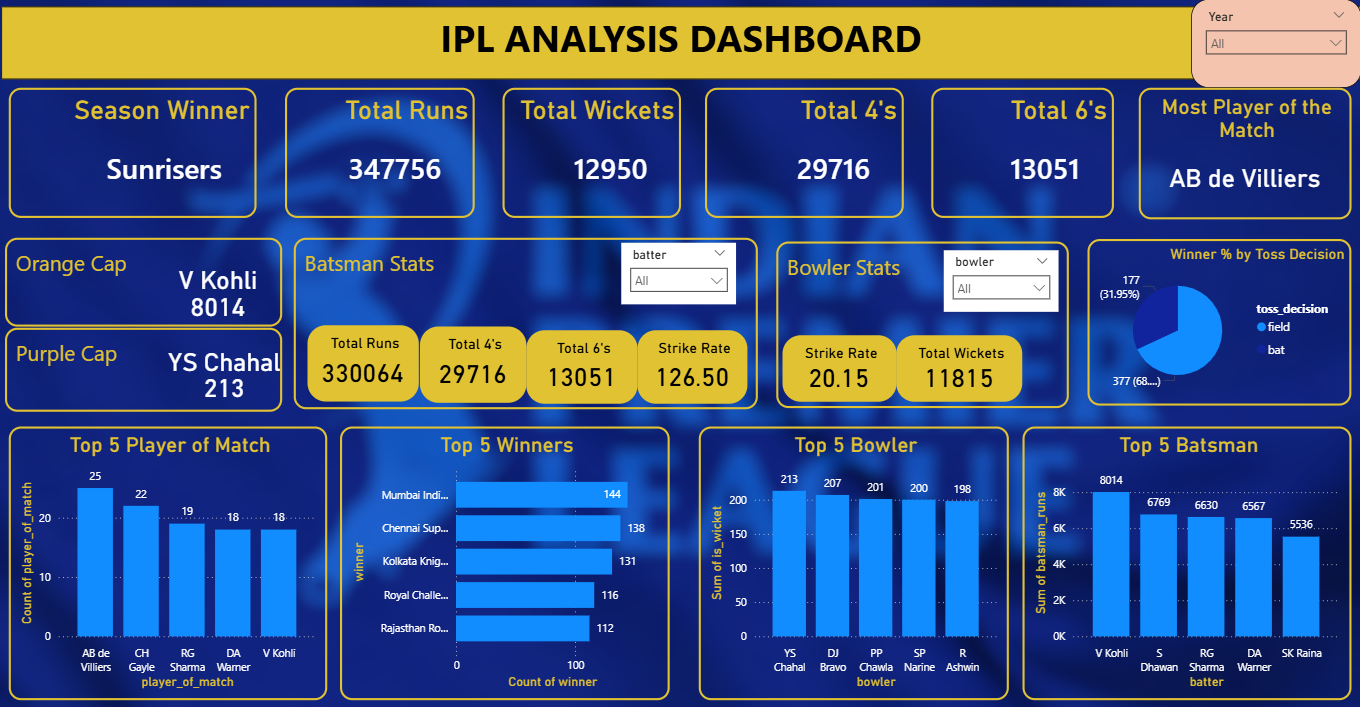

The dashboard page shown, as its layout file describes it:
{"tool":"powerbi","page":{"name":"Page 2","canvas":[1555,810],"ordinal":1},"visuals":[{"type":"textbox","box":[336,273.1,530,195.7],"z":0},{"type":"textbox","box":[1.4,8.6,1554.3,82.9],"z":1000},{"type":"slicer","fields":{"Values":["matches.season"]},"box":[1361.4,0,194.3,101.4],"z":2000},{"type":"cardVisual","title":"Season Winner","fields":{"Data":["matches.Winner of Final"]},"box":[10,101.4,282.9,148.6],"z":3000},{"type":"cardVisual","title":"Total Runs","fields":{"Data":["Sum(deliveries.total_runs)"]},"box":[325.7,101.4,217.1,148.6],"z":4000},{"type":"cardVisual","title":"Total Wickets","fields":{"Data":["Sum(deliveries.is_wicket)"]},"box":[574.3,101.4,204.3,148.6],"z":5000},{"type":"cardVisual","title":"Total 4''s","fields":{"Data":["deliveries.Total 4's"]},"box":[805.7,101.4,227.1,148.6],"z":6000},{"type":"cardVisual","title":"Total 6''s","fields":{"Data":["deliveries.Total 6's"]},"box":[1064.3,101.4,208.6,148.6],"z":7000},{"type":"card","title":"Most Player of the Match","fields":{"Values":["Min(matches.player_of_match)"]},"box":[1301.4,101.4,242.9,150],"z":8000},{"type":"textbox","box":[5.4,272.6,317.1,101.4],"z":9000},{"type":"pieChart","title":"Winner % by Toss Decision","fields":{"Category":["matches.toss_decision"],"Y":["CountNonNull(matches.winner %)"]},"box":[1242.9,274.3,301.4,190],"z":10000},{"type":"columnChart","title":"Top 5 Batsman","fields":{"Category":["deliveries.batter"],"Y":["Sum(deliveries.batsman_runs)"]},"box":[1168.6,489.1,375.7,312.9],"z":11000},{"type":"columnChart","title":"Top 5 Bowler","fields":{"Category":["deliveries.bowler"],"Y":["Sum(deliveries.is_wicket)"]},"box":[798.6,489.1,354.3,312.9],"z":12000},{"type":"card","fields":{"Values":["Min(deliveries.batter)"]},"box":[157.4,284.9,184.3,71.4],"z":13000},{"type":"card","fields":{"Values":["Sum(deliveries.batsman_runs)"]},"box":[157.4,320.6,184.3,60],"z":14000},{"type":"textbox","box":[5.4,375.4,317.1,95.7],"z":15000},{"type":"card","fields":{"Values":["Min(deliveries.bowler)"]},"box":[164,377.1,184.3,71.4],"z":16000},{"type":"slicer","fields":{"Values":["deliveries.batter"]},"box":[709.7,278.9,131.4,70],"z":17000},{"type":"card","fields":{"Values":["Sum(deliveries.is_wicket)"]},"box":[164,412.9,184.3,60],"z":18000},{"type":"textbox","box":[886.9,276.6,334.3,190],"z":19000},{"type":"slicer","fields":{"Values":["deliveries.bowler"]},"box":[1078.3,286.6,131.4,70],"z":20000},{"type":"card","title":"Total Wickets","fields":{"Values":["deliveries.Bowler_Wicket"]},"box":[1024.3,384.3,144.3,75.7],"z":21000},{"type":"card","title":"Strike Rate","fields":{"Values":["deliveries.Bowling Strike Rate"]},"box":[894.3,383.7,130,75.7],"z":22000},{"type":"card","title":"Strike Rate","fields":{"Values":["deliveries.Strike_Rate"]},"box":[728.9,378.9,125.7,84.3],"z":23000},{"type":"card","title":"Total 6''s","fields":{"Values":["deliveries.Total 6's"]},"box":[601.7,378.9,127.1,84.3],"z":24000},{"type":"card","title":"Total 4''s","fields":{"Values":["deliveries.Total 4's"]},"box":[480.3,374.6,121.4,87.1],"z":25000},{"type":"card","title":"Total Runs","fields":{"Values":["Sum(deliveries.batsman_runs)"]},"box":[351.7,373.1,127.1,87.1],"z":26000},{"type":"barChart","title":"Top 5 Winners","fields":{"Category":["matches.winner"],"Y":["CountNonNull(matches.winner)"]},"box":[388.6,489.1,377.1,312.9],"z":27000},{"type":"columnChart","title":"Top 5 Player of Match","fields":{"Category":["matches.player_of_match"],"Y":["CountNonNull(matches.player_of_match)"]},"box":[10,489.1,364.3,312.9],"z":28000}]}

Visuals, with their boxes in screenshot pixels (x1, y1, x2, y2), scaled from the page's 1555x810 canvas onto the 1360x707 screenshot:
textbox: 294/238/757/409
textbox: 1/8/1359/80
slicer - matches.season: 1191/0/1359/89
"Season Winner" cardVisual: 9/89/256/218
"Total Runs" cardVisual: 285/89/475/218
"Total Wickets" cardVisual: 502/89/681/218
"Total 4''s" cardVisual: 705/89/903/218
"Total 6''s" cardVisual: 931/89/1113/218
"Most Player of the Match" card: 1138/89/1351/219
textbox: 5/238/282/326
"Winner % by Toss Decision" pieChart: 1087/239/1351/405
"Top 5 Batsman" columnChart: 1022/427/1351/700
"Top 5 Bowler" columnChart: 698/427/1008/700
card - Min(deliveries.batter): 138/249/299/311
card - Sum(deliveries.batsman_runs): 138/280/299/332
textbox: 5/328/282/411
card - Min(deliveries.bowler): 143/329/305/391
slicer - deliveries.batter: 621/243/736/305
card - Sum(deliveries.is_wicket): 143/360/305/413
textbox: 776/241/1068/407
slicer - deliveries.bowler: 943/250/1058/311
"Total Wickets" card: 896/335/1022/402
"Strike Rate" card: 782/335/896/401
"Strike Rate" card: 637/331/747/404
"Total 6''s" card: 526/331/637/404
"Total 4''s" card: 420/327/526/403
"Total Runs" card: 308/326/419/402
"Top 5 Winners" barChart: 340/427/670/700
"Top 5 Player of Match" columnChart: 9/427/327/700
